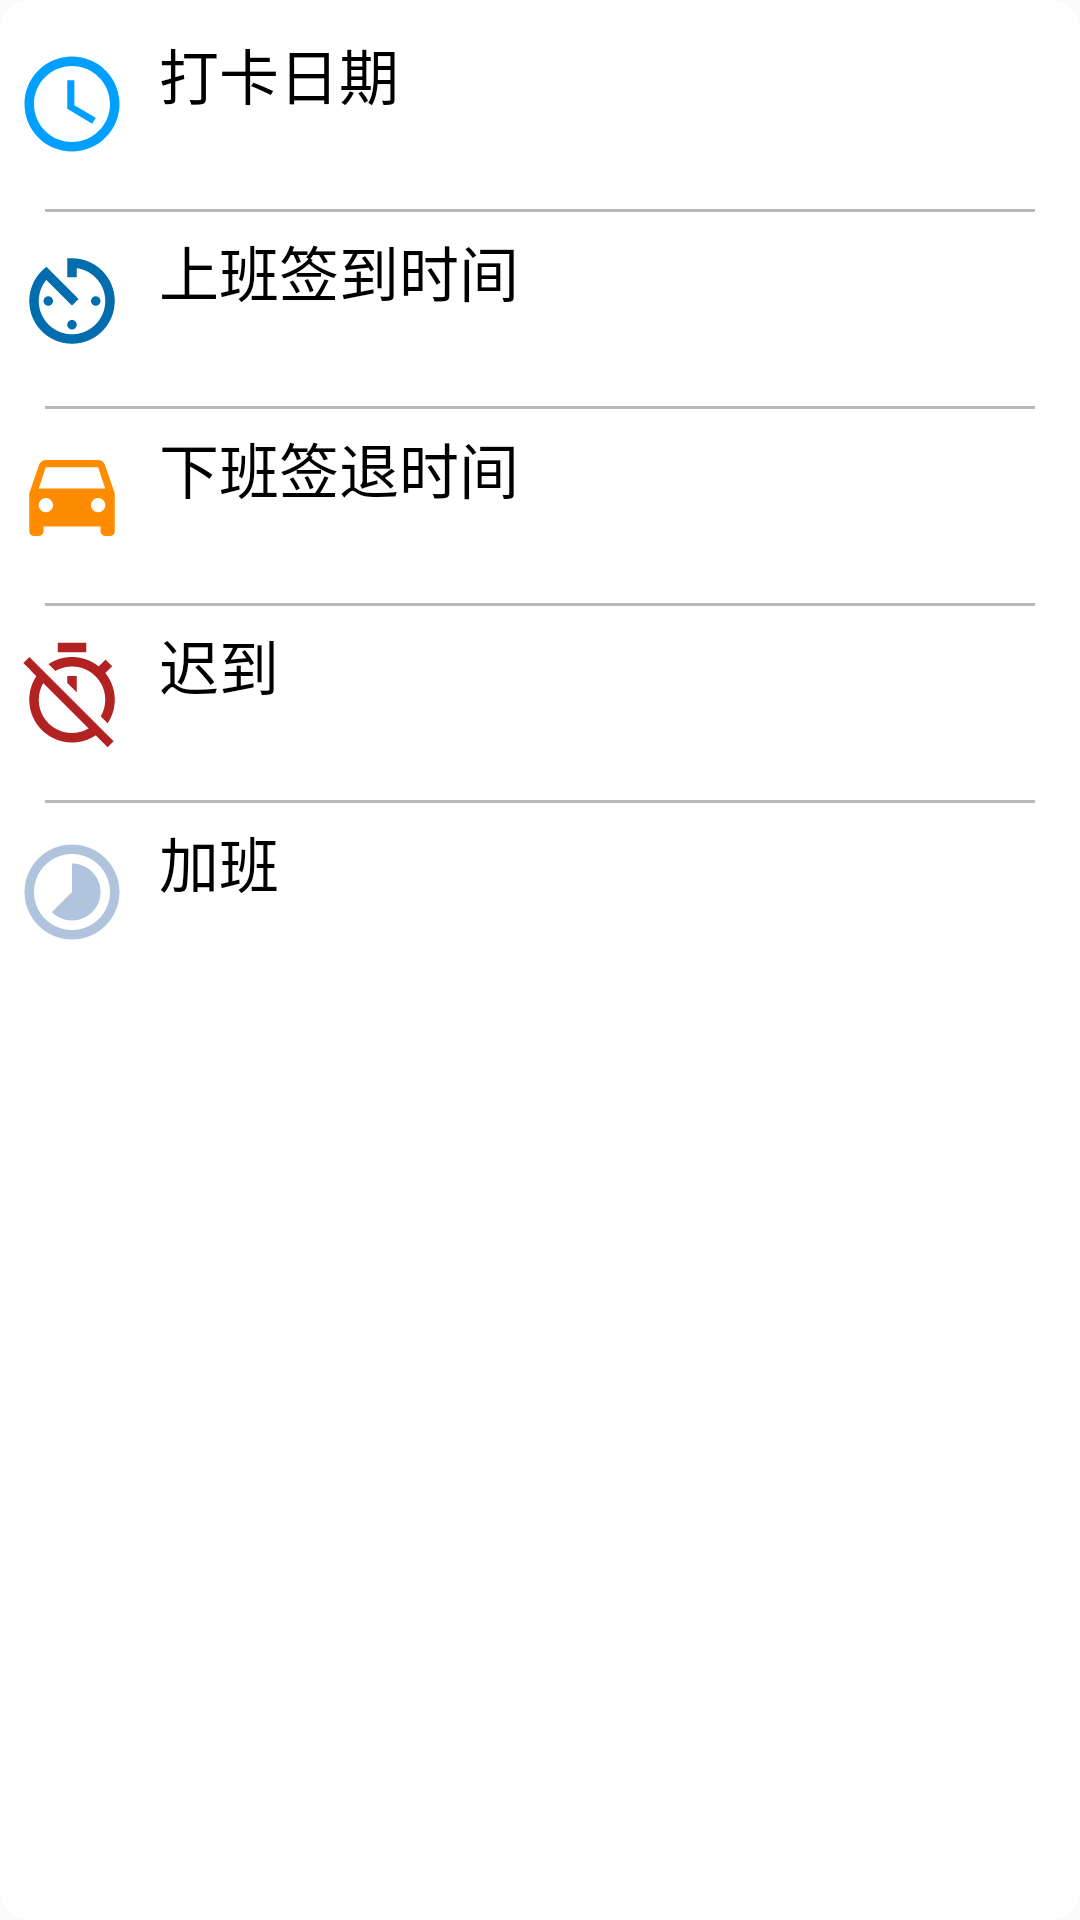

Screen size 1080 × 1920. Icon name, then its box in pixels as region(x1, y1, x2, y2):
access time: region(24, 56, 120, 152)
av timer: region(29, 258, 115, 344)
time to leave: region(29, 460, 115, 536)
timelapse: region(24, 844, 120, 940)
timer off: region(23, 642, 115, 747)
